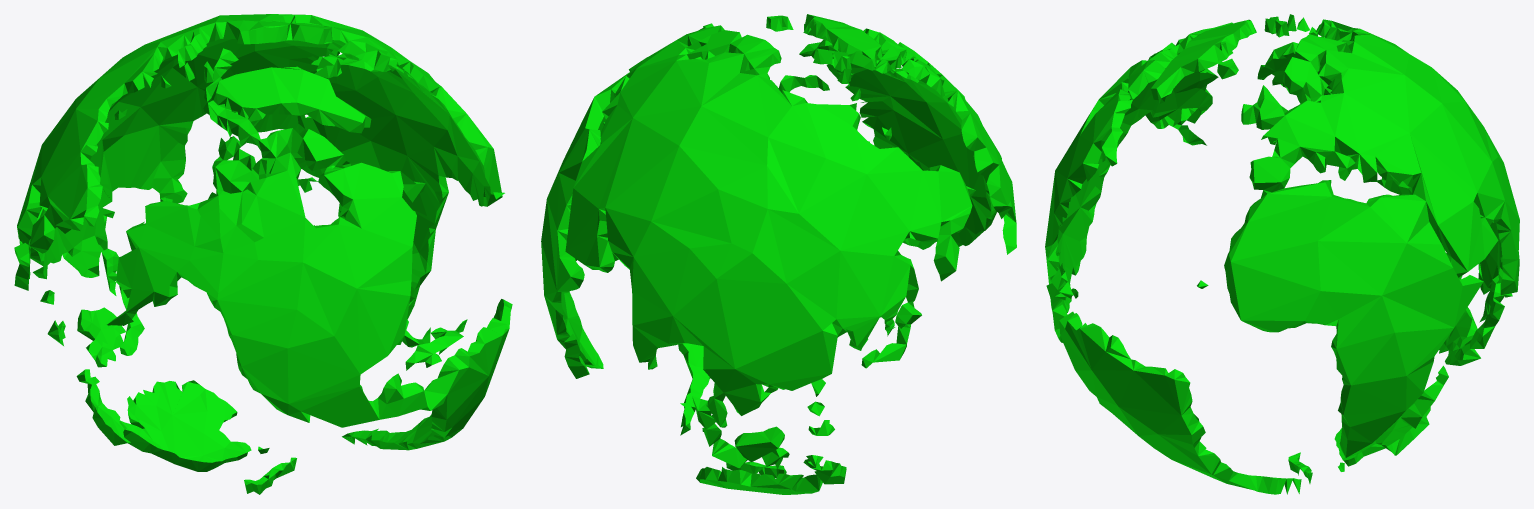
The model's file is Mars-One_title_earth_land.FBX.
3 views of the same model, side by side, from view 1: azimuth 30°, elevation 25°; view 2: azimuth 150°, elevation 25°; view 3: azimuth 270°, elevation 25° (orthographic). The views are drawn at different scales.
Parts seen in each view (by area): view 1: low_poly_earth; view 2: low_poly_earth; view 3: low_poly_earth.
Boxes of the visible parts, box(x1,y1,x2,y2) form: low_poly_earth: box(14, 14, 512, 494); low_poly_earth: box(541, 14, 1016, 494); low_poly_earth: box(1045, 14, 1519, 494).
Size of the model in its own units: 76.45 by 79.24 by 78.5.
